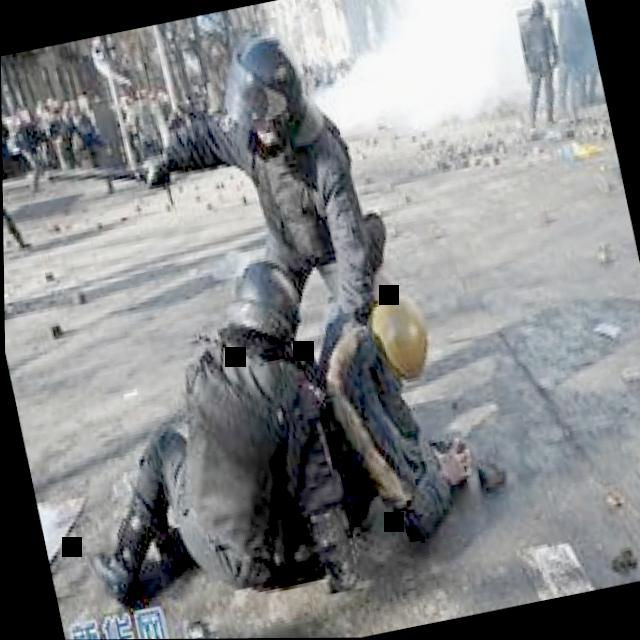Fall-Detected: (26, 233, 373, 622)
